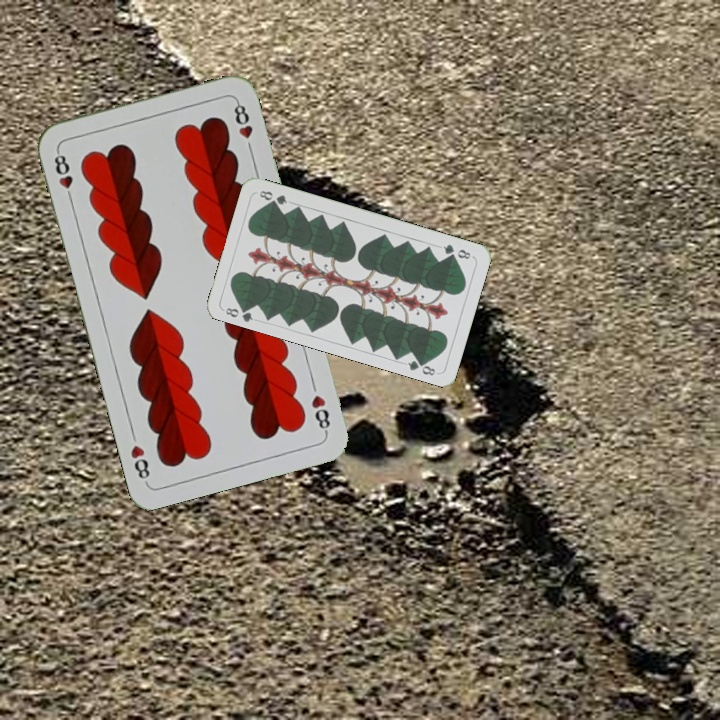G8: (221, 301, 256, 324), (439, 240, 473, 262)
H8: (50, 146, 76, 204), (307, 390, 333, 436)
